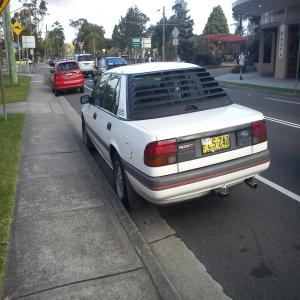Vehicle-registration-plate: (201, 135, 233, 157), (66, 74, 73, 76), (86, 64, 89, 66)
